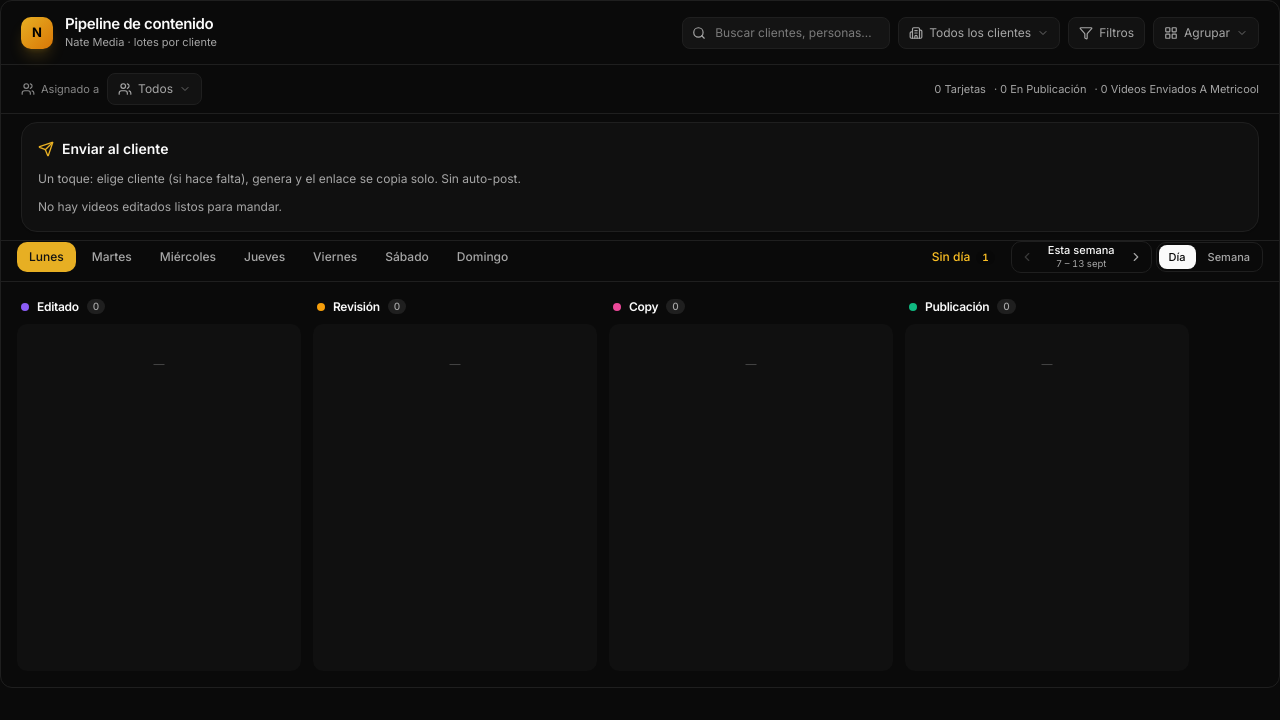
Test: EntregasBoard — la operación es por día › un video sin fecha no desaparece: cae en "Sin día"
Click the button "Sin día 1" at (963, 257), box [920,242,1007,272]
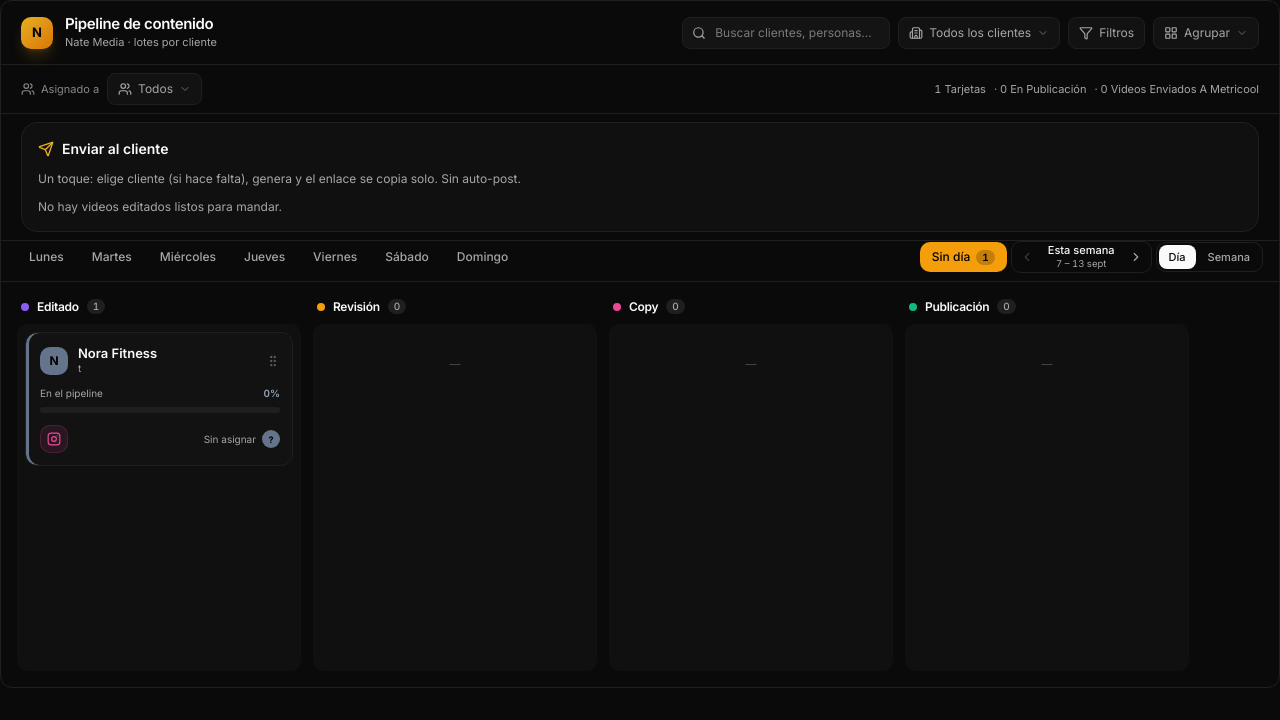
Now the text "Nora Fitness" is shown, box [78,345,157,361]
